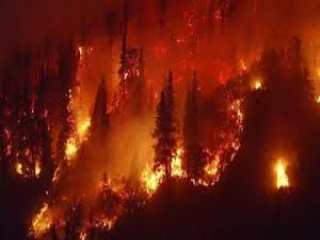fire: (204, 109, 247, 185), (57, 104, 97, 172), (132, 157, 195, 192), (27, 196, 57, 234), (270, 151, 294, 198), (250, 81, 271, 98)
